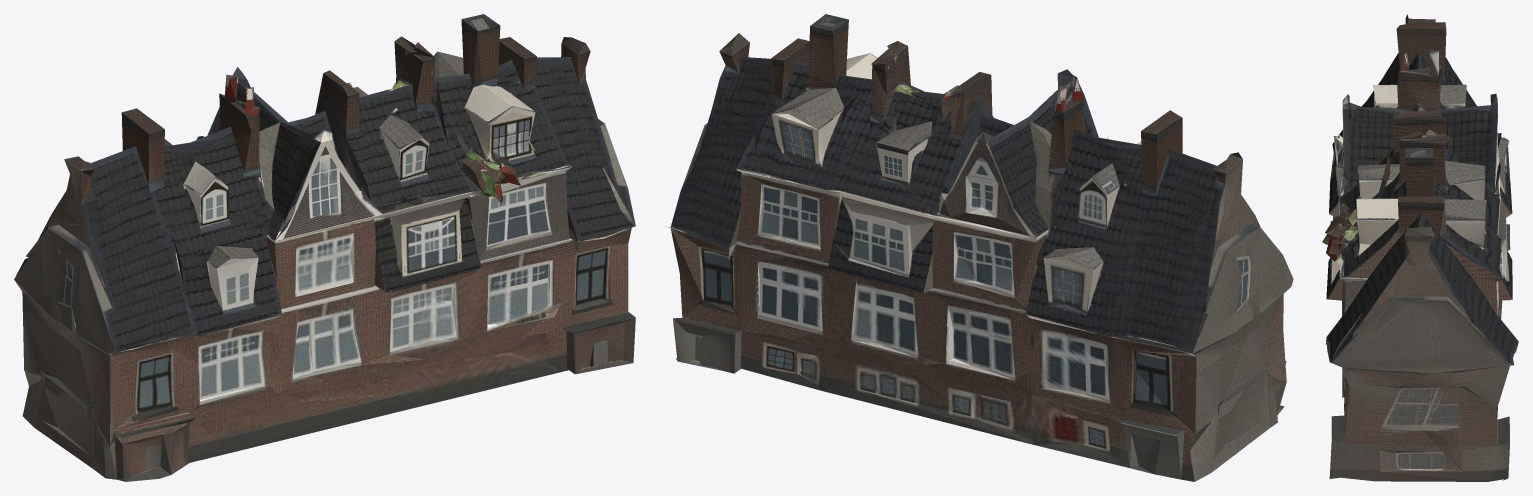
The model's file is farBlockB.glb.
The picture shows the model from 3 angles, left to right: view 1: azimuth 30°, elevation 25°; view 2: azimuth 150°, elevation 25°; view 3: azimuth 270°, elevation 25°; orthographic projection. The views are drawn at different scales.
Size of the model in its own units: 1.9 by 1.13 by 0.7071.
1 material, 1 textured.
